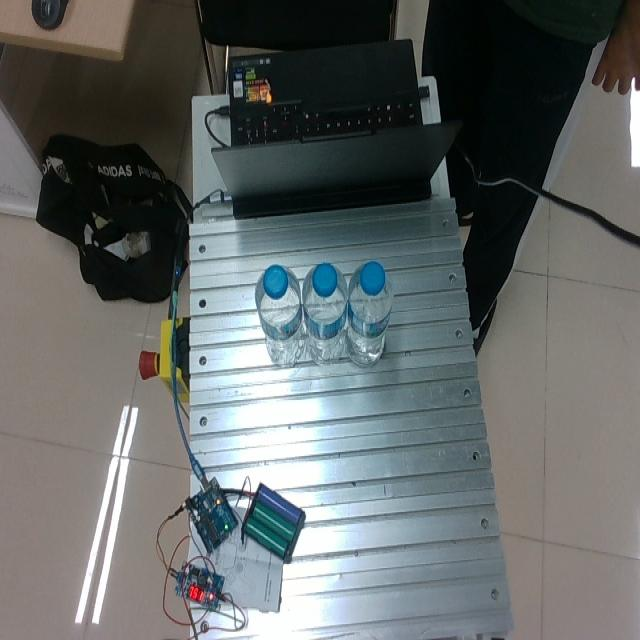lavie: (347, 261, 393, 367), (256, 264, 304, 365), (302, 263, 349, 365)
